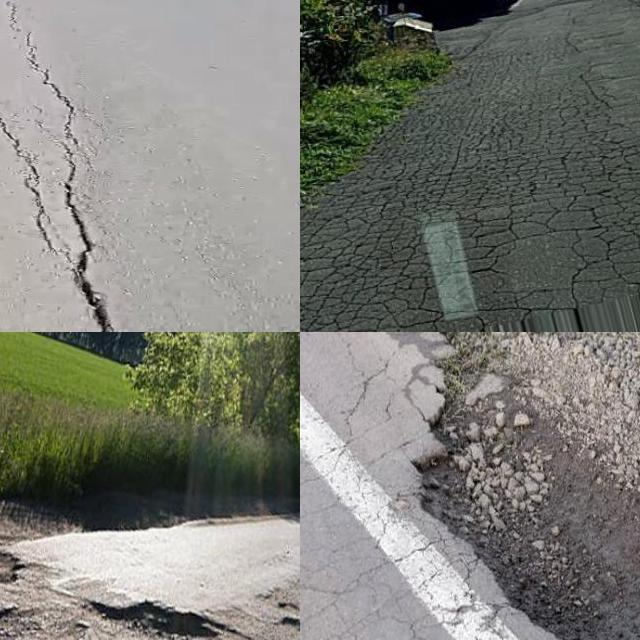Lubang: (75, 605, 246, 640), (0, 607, 38, 640)
Memanjang: (21, 12, 126, 332), (0, 100, 57, 261)
Pinggir: (415, 337, 640, 640)
Retak Buaya: (300, 40, 640, 332)
